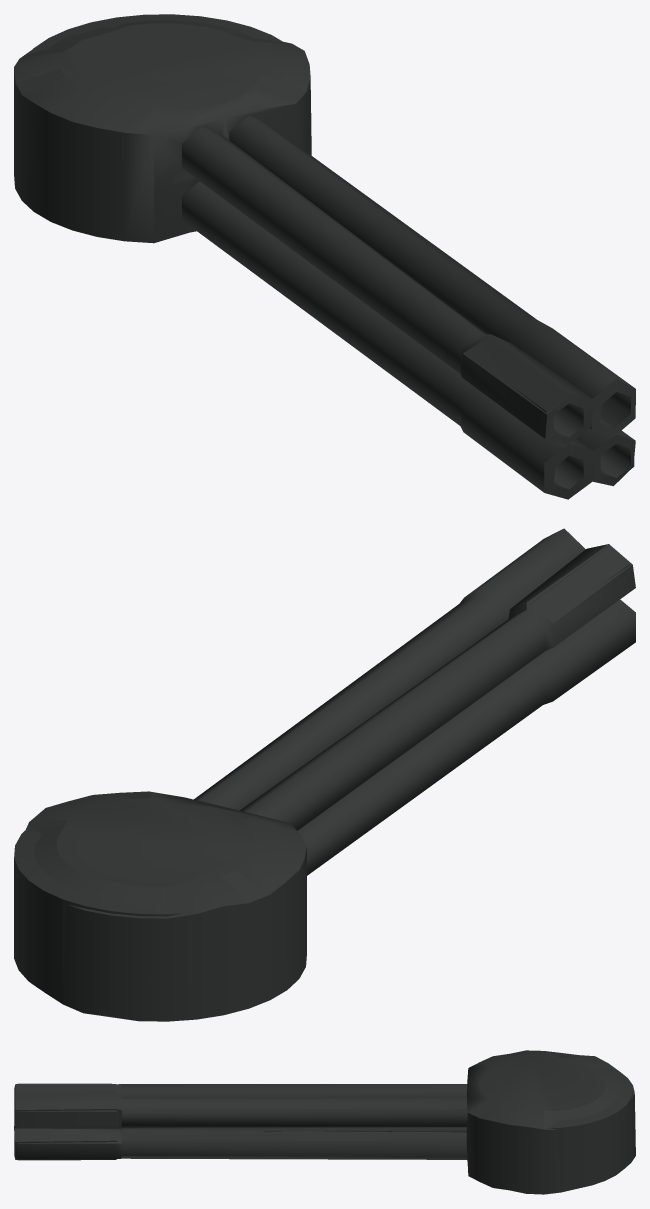
The model's file is machinegun (1).fbx.
3 renders of one model, top to bottom at view 1: azimuth 30°, elevation 25°; view 2: azimuth 150°, elevation 25°; view 3: azimuth 270°, elevation 25°, orthographic. The views are drawn at different scales.
Parts seen in each view (by area): view 1: Circle.001; view 2: Circle.001; view 3: Circle.001.
Part boxes in pixels (x1,y1,x2,y2): Circle.001: (14,14,635,499); Circle.001: (14,528,635,1021); Circle.001: (14,1050,635,1194).
Bounding box in the file's own units: 50.89 × 22.88 × 172.
Materials: 1 (1 with a texture image).
